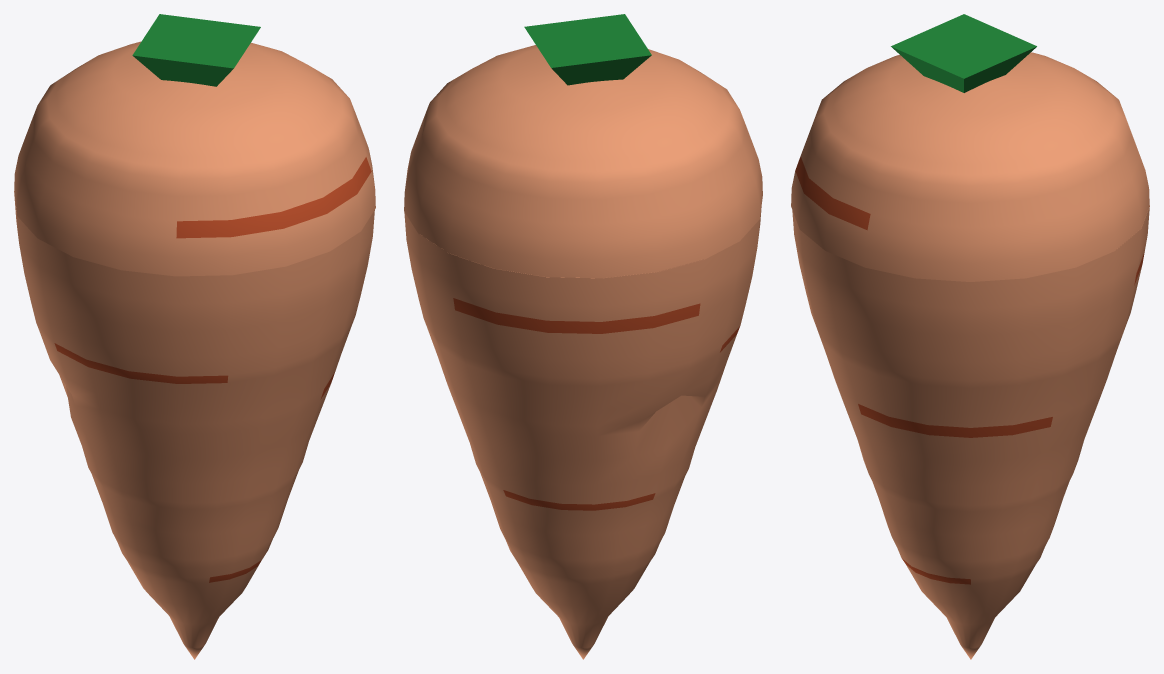
File: Carrot_D2.fbx
3 views of the same model, side by side, from view 1: azimuth 30°, elevation 25°; view 2: azimuth 150°, elevation 25°; view 3: azimuth 270°, elevation 25° (orthographic).
Visible parts, largest first — view 1: pCone3, pSphere2, pPyramid1; view 2: pCone3, pSphere2, pPyramid1; view 3: pCone3, pSphere2, pPyramid1.
Boxes of the visible parts, x1,y1,x2,y2 form: pCone3: [14, 191, 374, 659]; pSphere2: [14, 41, 375, 276]; pPyramid1: [132, 14, 260, 86]; pCone3: [404, 207, 761, 659]; pSphere2: [404, 45, 762, 278]; pPyramid1: [524, 14, 651, 85]; pCone3: [792, 205, 1149, 659]; pSphere2: [791, 52, 1149, 281]; pPyramid1: [891, 14, 1036, 92].
Size of the model in its own units: 3.3 by 6.23 by 3.3.
